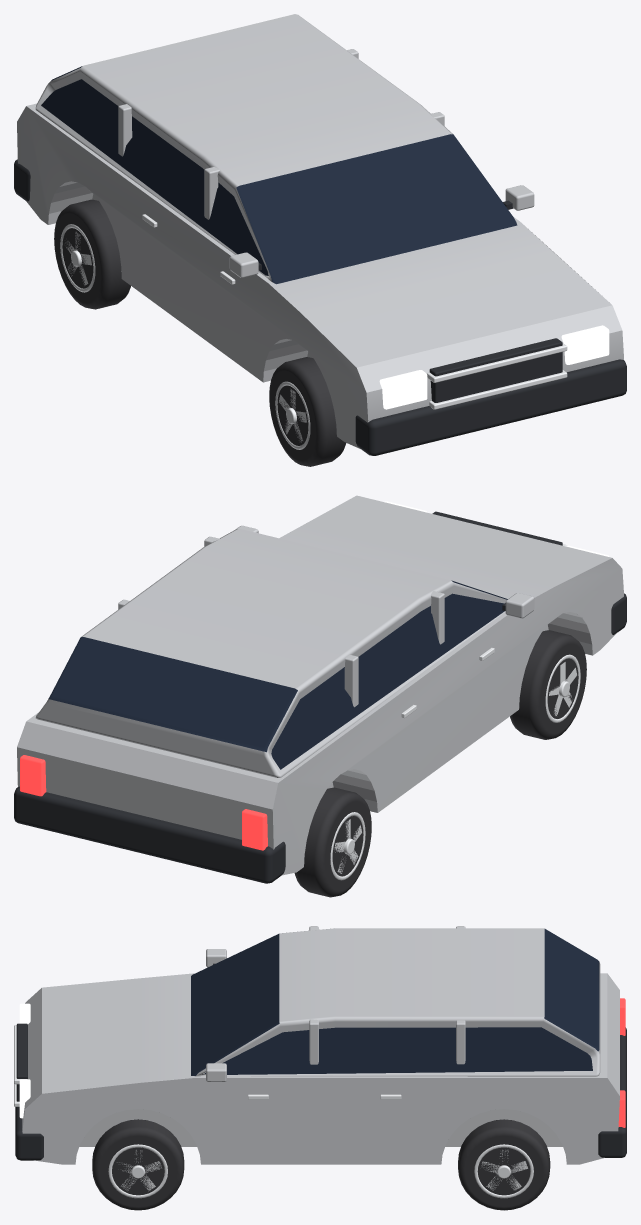
File: hatchback.glb
3 renders of one model, top to bottom at view 1: azimuth 30°, elevation 25°; view 2: azimuth 150°, elevation 25°; view 3: azimuth 270°, elevation 25°, orthographic. The views are drawn at different scales.
Parts seen in each view (by area): view 1: body_paint, body_trim, wheel_RR, wheel_FR; view 2: body_paint, body_trim, wheel_RR, wheel_FR; view 3: body_paint, body_trim, wheel_FL, wheel_RL.
Boxes of the visible parts, x1=… form: body_paint: x1=17, y1=14, x2=623, y2=449; body_trim: x1=14, y1=66, x2=626, y2=455; wheel_RR: x1=54, y1=199, x2=130, y2=309; wheel_FR: x1=269, y1=357, x2=346, y2=466; body_paint: x1=17, y1=495, x2=623, y2=875; body_trim: x1=14, y1=501, x2=626, y2=883; wheel_RR: x1=294, y1=787, x2=371, y2=897; wheel_FR: x1=510, y1=630, x2=586, y2=739; body_paint: x1=22, y1=926, x2=619, y2=1164; body_trim: x1=14, y1=929, x2=626, y2=1160; wheel_FL: x1=92, y1=1119, x2=184, y2=1210; wheel_RL: x1=458, y1=1119, x2=550, y2=1210.
Size of the model in its own units: 2.07 by 1.46 by 4.39.
